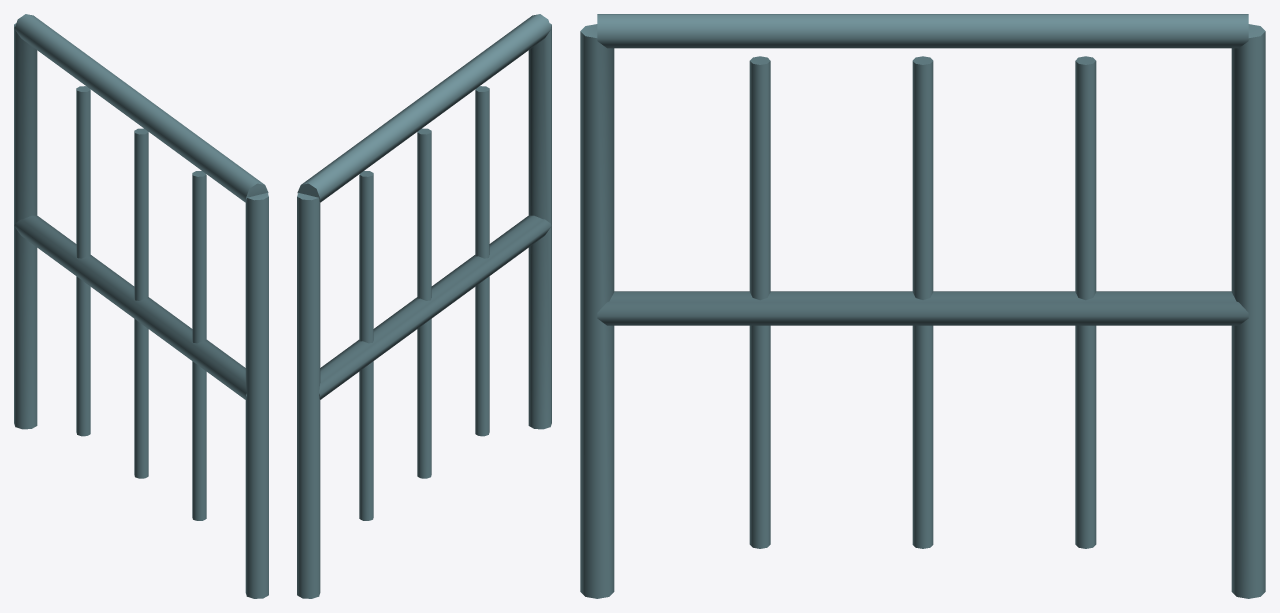
The model's file is station-guardrail.glb.
3 views of the same model, side by side, from view 1: azimuth 30°, elevation 25°; view 2: azimuth 150°, elevation 25°; view 3: azimuth 270°, elevation 25° (orthographic). The views are drawn at different scales.
Visible parts, largest first — view 1: guardrail post; view 2: guardrail post; view 3: guardrail post.
Part boxes in pixels (left/top/right/bottom): guardrail post: left=14, top=14, right=268, bottom=598; guardrail post: left=297, top=14, right=551, bottom=598; guardrail post: left=580, top=14, right=1265, bottom=598.
Size of the model in its own units: 0.056 by 0.978 by 1.05.
